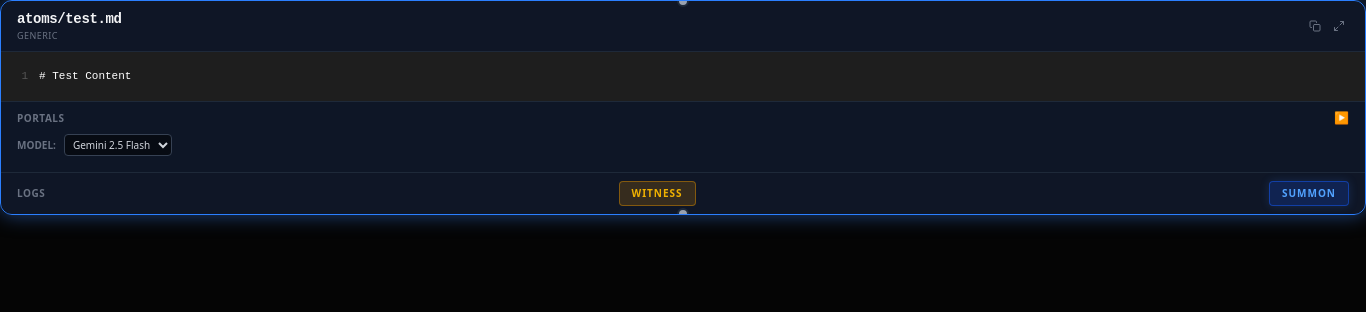
SpatiaNode › expands portals and fetches them
Status 0 shows portals section
Click the element with test id "portals-toggle" at x=41, y=118, box [17,110,1349,126]
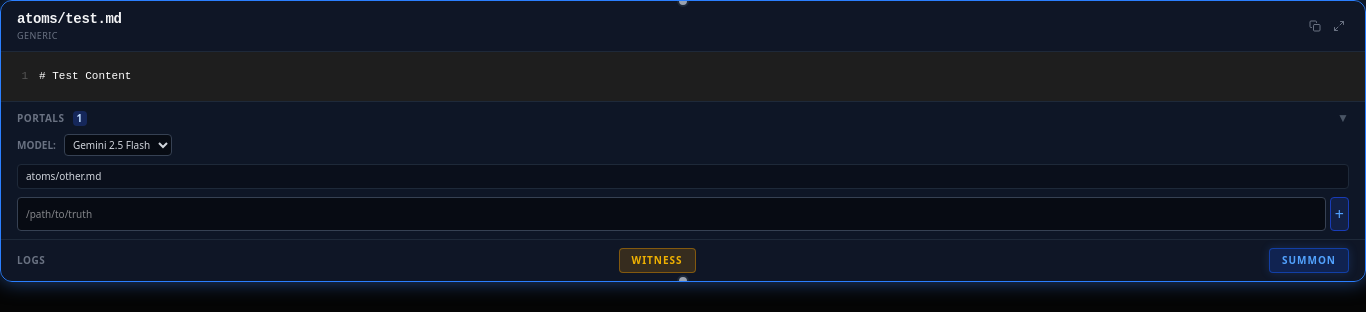
Check: the text "atoms/other.md" is shown, box [26,169,101,184]
